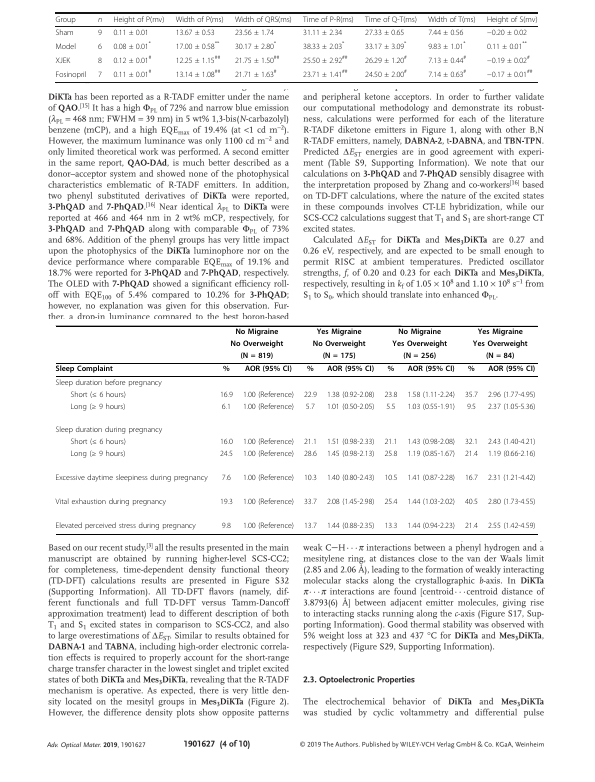borderless: (55, 324, 538, 534), (55, 11, 538, 82)
cell: (55, 474, 209, 483), (55, 522, 197, 531), (55, 378, 163, 388), (55, 426, 163, 436), (55, 498, 167, 507), (69, 390, 127, 400), (69, 438, 127, 448), (69, 402, 126, 412), (69, 450, 126, 460), (234, 15, 293, 24), (55, 365, 114, 374), (242, 390, 295, 400), (242, 402, 295, 412), (242, 438, 295, 448), (242, 450, 295, 460), (486, 68, 533, 79), (391, 340, 448, 349), (175, 54, 221, 65), (234, 54, 280, 65), (302, 54, 348, 65), (175, 68, 221, 79), (302, 68, 348, 79), (472, 340, 528, 349), (406, 390, 456, 400), (406, 402, 456, 412), (406, 438, 456, 448), (406, 450, 456, 460), (175, 40, 220, 51), (486, 54, 531, 65), (326, 390, 375, 400), (487, 390, 536, 400), (326, 402, 375, 412), (487, 402, 536, 412), (326, 438, 375, 448), (487, 438, 536, 448), (326, 450, 375, 460), (487, 450, 536, 460), (364, 15, 418, 24), (230, 340, 284, 349), (312, 340, 366, 349), (364, 54, 408, 65), (234, 68, 278, 79), (364, 68, 408, 79), (112, 15, 165, 24), (302, 15, 355, 24), (242, 474, 295, 483), (242, 498, 295, 507), (242, 522, 295, 531), (234, 40, 277, 51), (302, 40, 345, 51), (364, 40, 407, 51), (486, 15, 538, 24), (486, 40, 528, 51), (427, 15, 477, 24), (406, 474, 456, 483), (406, 498, 456, 507), (406, 522, 456, 531), (175, 15, 224, 24), (244, 365, 293, 374), (326, 365, 375, 374), (487, 365, 536, 374), (326, 474, 375, 483), (487, 474, 536, 483), (326, 498, 375, 507), (487, 498, 536, 507), (326, 522, 375, 531), (487, 522, 536, 531), (112, 40, 152, 51), (427, 40, 467, 51), (112, 54, 152, 65), (427, 54, 467, 65), (112, 68, 152, 79), (427, 68, 467, 79), (407, 365, 455, 374), (316, 328, 363, 337), (477, 328, 524, 337), (234, 328, 279, 337), (397, 328, 442, 337), (486, 28, 528, 37), (175, 28, 216, 37), (234, 28, 275, 37), (302, 28, 343, 37), (364, 28, 405, 37), (112, 28, 150, 37), (427, 28, 464, 37), (239, 352, 274, 361), (402, 352, 437, 361), (322, 352, 356, 361), (55, 70, 87, 79), (485, 352, 515, 361), (55, 42, 77, 51), (55, 15, 76, 24), (55, 28, 74, 37), (219, 390, 234, 400), (303, 390, 318, 400), (383, 390, 398, 400), (464, 390, 479, 400), (219, 438, 234, 448), (303, 438, 318, 448), (383, 438, 398, 448), (464, 438, 479, 448), (219, 450, 234, 460), (303, 450, 318, 460), (383, 450, 398, 460), (464, 450, 479, 460), (55, 56, 71, 65), (303, 474, 318, 483), (383, 474, 398, 483), (464, 474, 479, 483), (219, 498, 234, 507), (303, 498, 318, 507), (383, 498, 398, 507), (464, 498, 479, 507), (303, 522, 318, 531), (383, 522, 398, 531), (464, 522, 479, 531), (221, 402, 232, 412), (305, 402, 316, 412), (385, 402, 396, 412), (466, 402, 477, 412), (221, 474, 232, 483), (221, 522, 232, 531), (222, 365, 231, 374), (306, 365, 315, 374), (386, 365, 395, 374), (467, 365, 476, 374), (97, 28, 103, 37), (97, 42, 103, 51), (97, 56, 103, 65), (97, 70, 103, 79), (97, 17, 103, 23)
